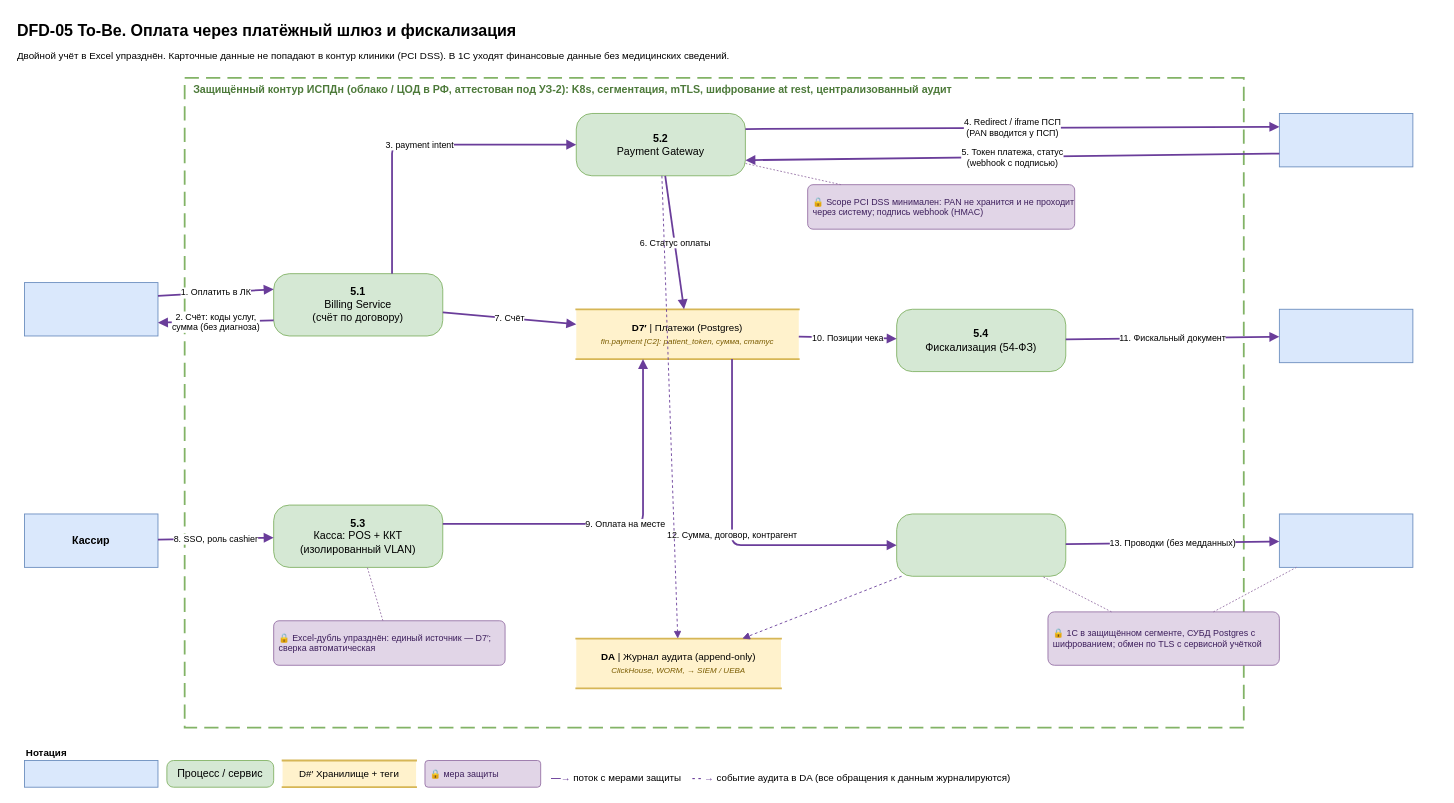
Image size: 1454x803. Some labels were removed from this diagram. The centre of each missing label's shape, as x and y in pixels:
"1С:Бухгалтерия (клиент-сервер)" belongs at point 1345,540.
"5.5 Интеграция с 1С (HTTP-сервисы)" belongs at point 981,544.
"Банк-эквайер / ПСП (PCI DSS)" belongs at point 1345,140.
"Внешняя сущность / роль" belongs at point 91,773.
"ОФД → ФНС" belongs at point 1345,335.
"Пациент" belongs at point 91,309.
